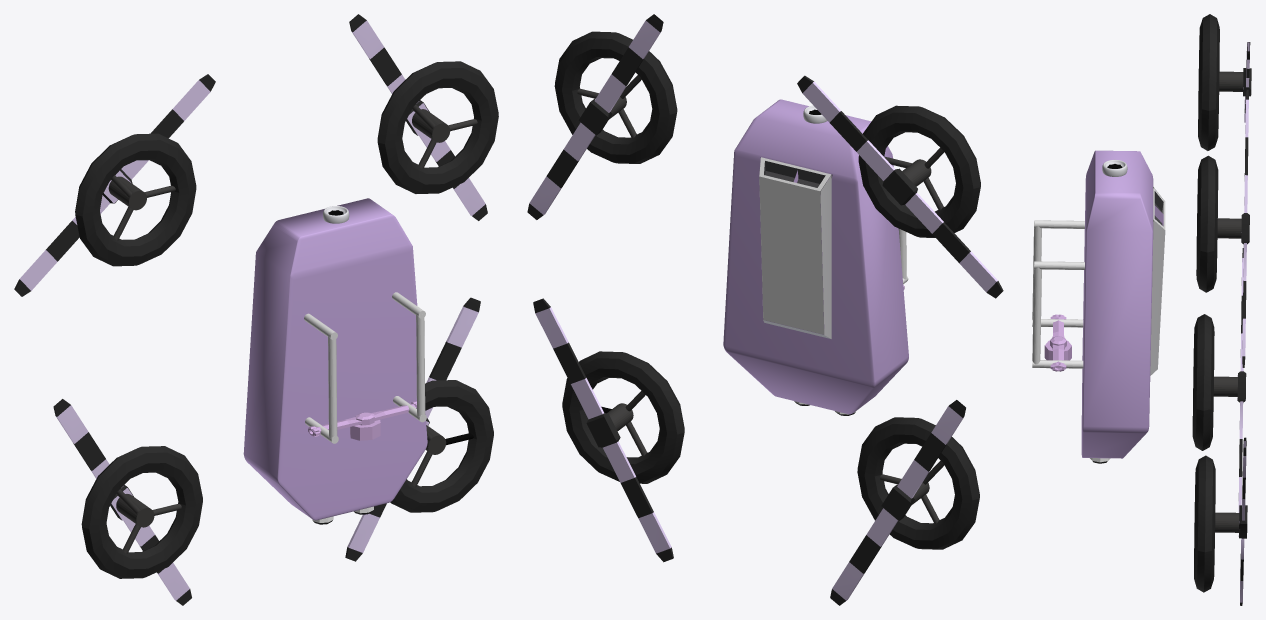
The model's file is drone1.fbx.
3 renders of one model, left to right at view 1: azimuth 30°, elevation 25°; view 2: azimuth 150°, elevation 25°; view 3: azimuth 270°, elevation 25°, orthographic. The views are drawn at different scales.
Visible parts, largest first — view 1: square, 5.003, 3, 2, 7, 5.002, 6, 1, 4, cy.001, cy.002, wei; view 2: square, ding, 3, 5.003, 2, 7, 4, 5.002, 6, 1; view 3: square, 2, 3, 7, 5.003, ding, cy.001, 1, cy.002, wei, 6, 4 (+2 smaller).
Part boxes in pixels (bbox=[...]): square: bbox=[243, 198, 427, 520]; 5.003: bbox=[75, 133, 196, 266]; 3: bbox=[81, 446, 202, 578]; 2: bbox=[377, 61, 498, 193]; 7: bbox=[390, 380, 493, 512]; 5.002: bbox=[14, 74, 215, 296]; 6: bbox=[53, 399, 191, 605]; 1: bbox=[349, 14, 487, 220]; 4: bbox=[345, 297, 480, 561]; cy.001: bbox=[392, 292, 426, 422]; cy.002: bbox=[304, 313, 338, 443]; wei: bbox=[308, 401, 416, 440]; square: bbox=[723, 99, 908, 414]; ding: bbox=[759, 157, 832, 338]; 3: bbox=[857, 417, 979, 549]; 5.003: bbox=[858, 105, 980, 237]; 2: bbox=[554, 31, 677, 163]; 7: bbox=[562, 351, 684, 483]; 4: bbox=[533, 298, 673, 562]; 5.002: bbox=[797, 75, 1003, 298]; 6: bbox=[830, 400, 965, 605]; 1: bbox=[527, 14, 663, 219]; square: bbox=[1081, 150, 1153, 458]; 2: bbox=[1196, 155, 1241, 292]; 3: bbox=[1192, 314, 1237, 450]; 7: bbox=[1194, 455, 1240, 592]; 5.003: bbox=[1198, 14, 1243, 150]; ding: bbox=[1150, 187, 1165, 375]; cy.001: bbox=[1032, 261, 1084, 368]; 1: bbox=[1241, 89, 1249, 367]; cy.002: bbox=[1032, 220, 1084, 327]; wei: bbox=[1044, 314, 1071, 371]; 6: bbox=[1237, 248, 1246, 512]; 4: bbox=[1238, 437, 1247, 605].
Size of the model in its own units: 303 by 334 by 128.
